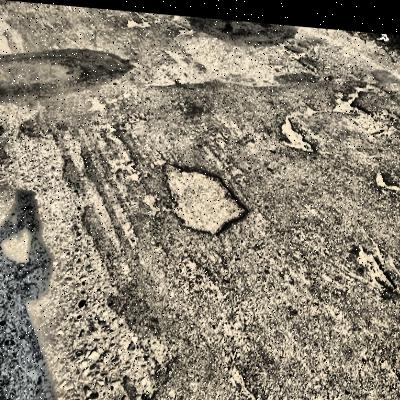pothole: (159, 155, 250, 235), (356, 238, 397, 284), (279, 111, 317, 149), (330, 84, 369, 112)
